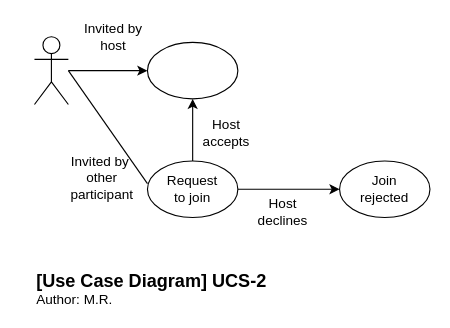
Some shapes in this 450 by 328 pixel diagram are drawn without their labels. Here are the shapes that lost their labels. From the top down, the box of each, then its label:
(33, 36, 68, 105): Participant
(146, 41, 238, 99): Join
